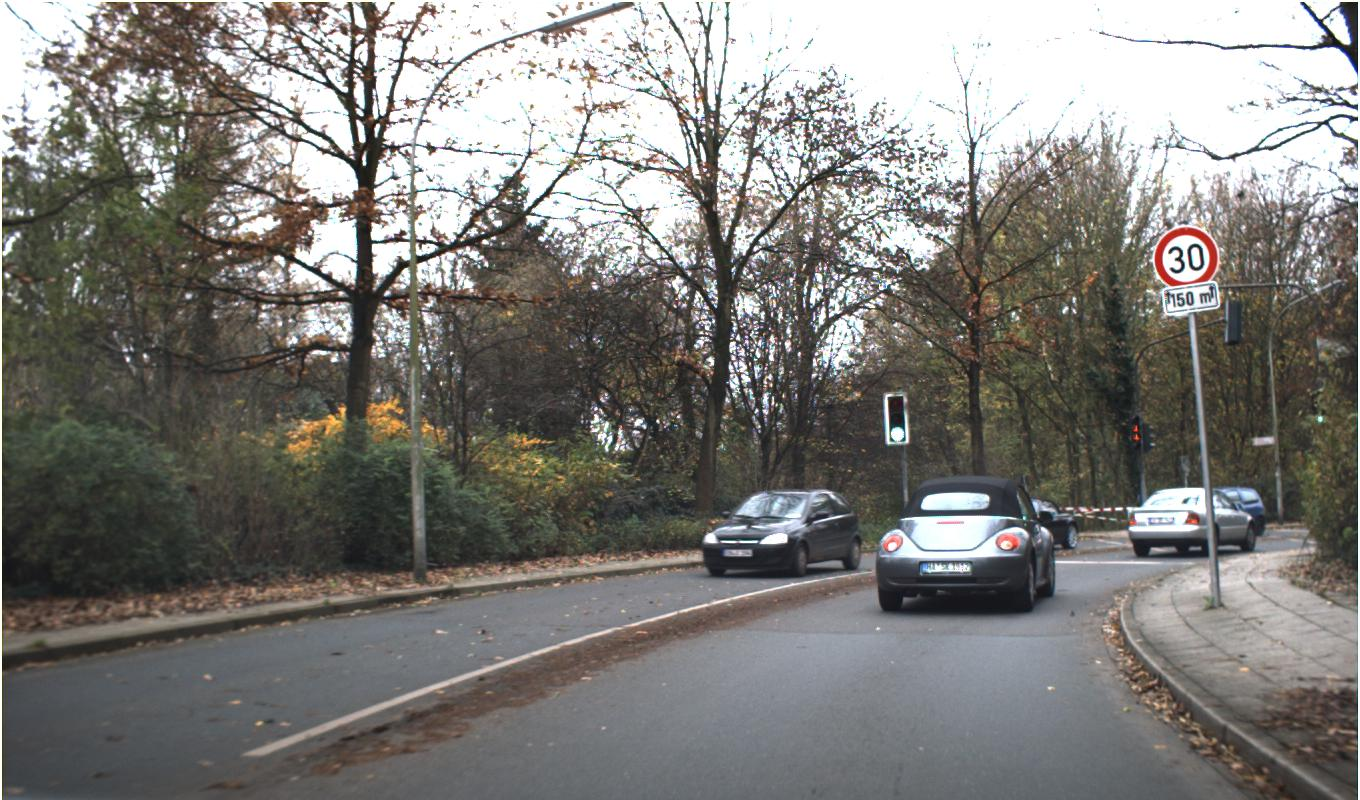prohibitory: (1152, 224, 1220, 290)
